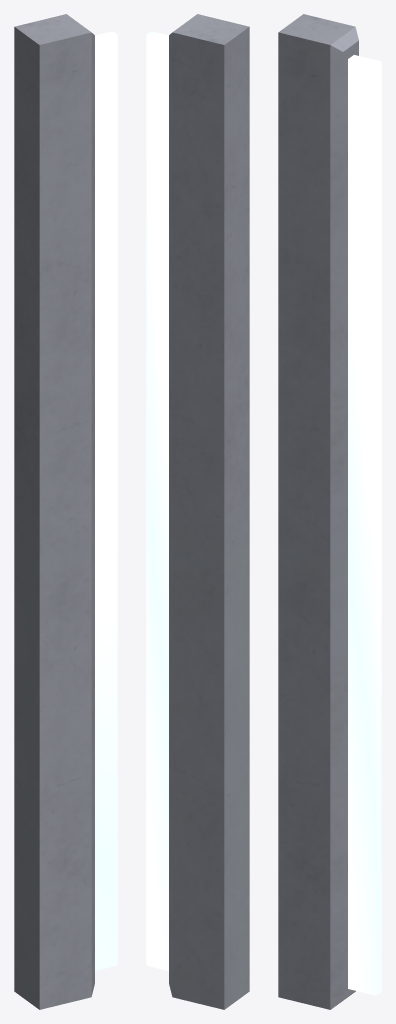
The model's file is white_box_beam_S.fbx.
3 renders of one model, left to right at view 1: azimuth 30°, elevation 25°; view 2: azimuth 150°, elevation 25°; view 3: azimuth 330°, elevation 25°, orthographic.
Parts seen in each view (by area): view 1: beam_S, light_tube_S; view 2: beam_S, light_tube_S; view 3: beam_S, light_tube_S.
Boxes of the visible parts, box(x1,y1,x2,y2) form: beam_S: box(14, 14, 94, 1009); light_tube_S: box(95, 31, 117, 970); beam_S: box(169, 14, 249, 1009); light_tube_S: box(146, 31, 168, 970); beam_S: box(278, 14, 358, 1009); light_tube_S: box(348, 55, 381, 995).
Bounding box in the file's own units: 15.17 × 157 × 7.43.
